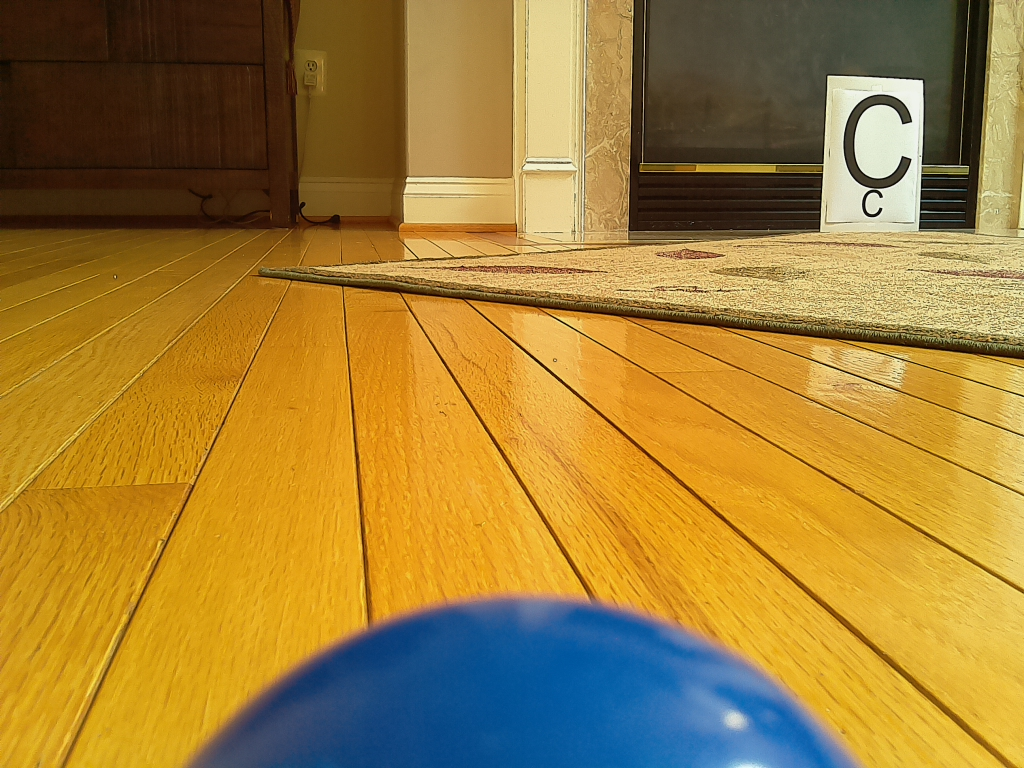letter: (844, 94, 911, 189)
